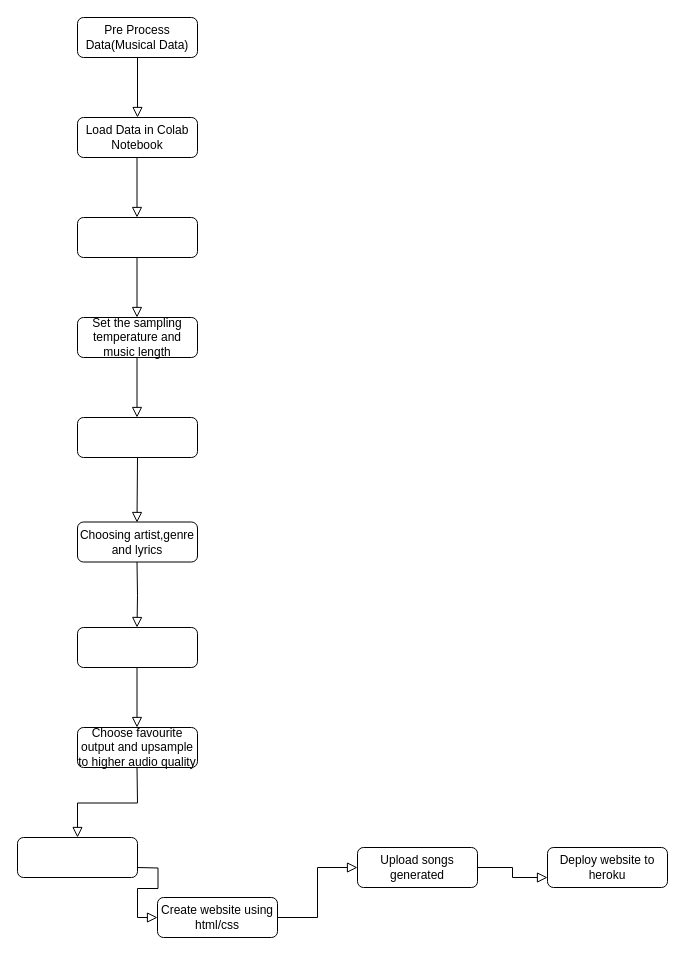
Image size: 685x955. Some labels were removed from this diagram. Each missing label, with the centre of its shape:
Co composing with 1B Lyrics Model: [137,437]
Download song: [77,857]
Generate 3 options for the song: [137,647]
Load the 1b lyrics model and sample lyrics: [137,237]
